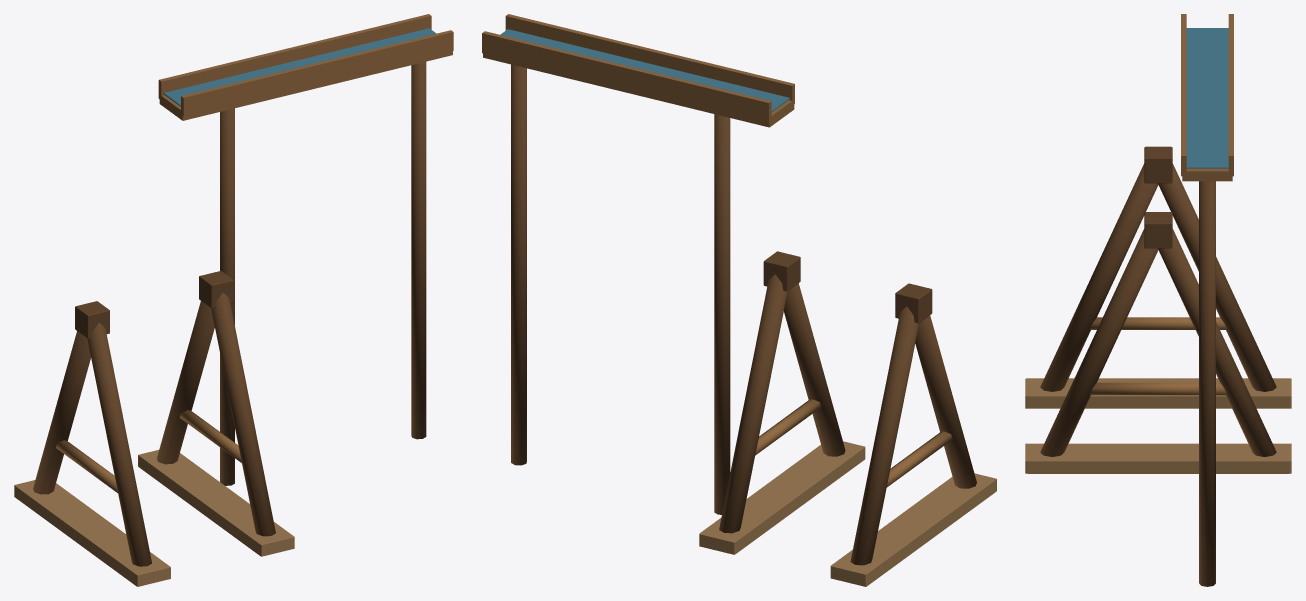
The model's file is schoepfrad_gestell.glb.
The picture shows the model from 3 angles, left to right: view 1: azimuth 30°, elevation 25°; view 2: azimuth 150°, elevation 25°; view 3: azimuth 270°, elevation 25°; orthographic projection. The views are drawn at different scales.
Parts seen in each view (by area): view 1: Cone; view 2: Cone; view 3: Cone.
Boxes of the visible parts, x1=… form: Cone: x1=14, y1=14, x2=453, y2=586; Cone: x1=482, y1=14, x2=996, y2=586; Cone: x1=1025, y1=14, x2=1291, y2=586.
Size of the model in its own units: 3.45 by 3.49 by 1.9.
